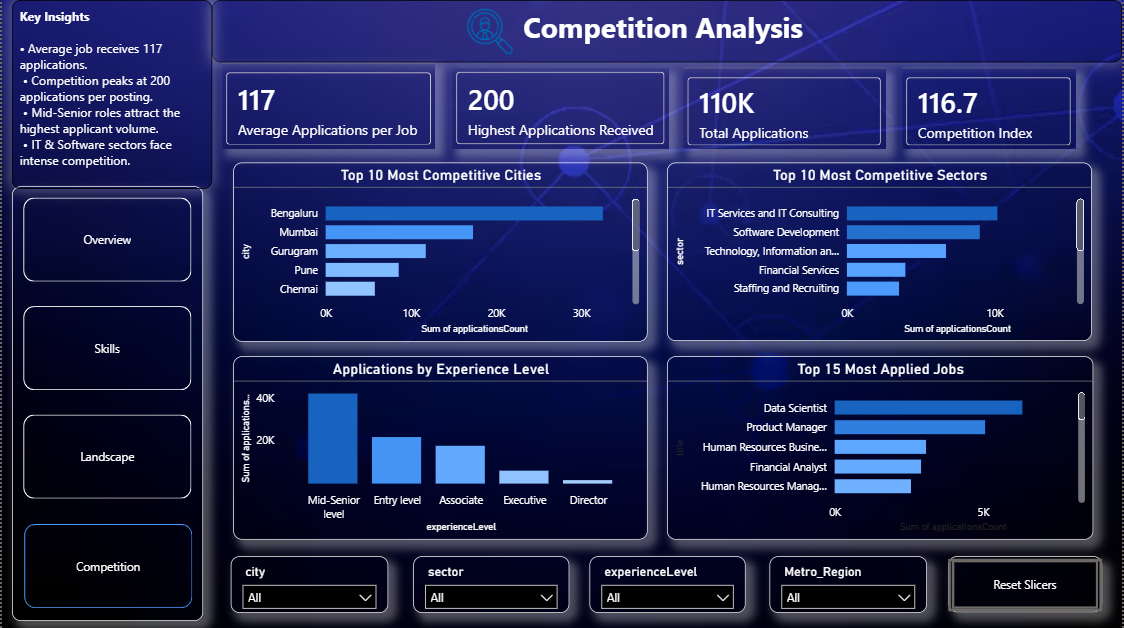

The page's visual inventory and layout, read from the dashboard file:
{"tool":"powerbi","page":{"name":"Competition","canvas":[1280,720],"ordinal":3},"visuals":[{"type":"cardVisual","fields":{"Data":["LinkedIn_Jobs_Final.Avg Applications"]},"box":[251.1,71.4,244.3,98.8],"z":0},{"type":"pageNavigator","box":[11.4,212.9,218.6,497.1],"z":1000},{"type":"textbox","box":[239.9,0,1040.1,71.4],"z":2000},{"type":"cardVisual","title":"Total Companies","fields":{"Data":["LinkedIn_Jobs_Final.Highest Applications Received"]},"box":[514.6,76.8,248.4,93.3],"z":3000},{"type":"cardVisual","fields":{"Data":["LinkedIn_Jobs_Final.Total Applications"]},"box":[778,76.8,231.9,93.3],"z":4000},{"type":"cardVisual","fields":{"Data":["LinkedIn_Jobs_Final.Competition Index"]},"box":[1029.2,76.8,199,93.3],"z":5000},{"type":"clusteredBarChart","title":"Top 10 Most Competitive Cities","fields":{"Category":["LinkedIn_Jobs_Final.city"],"Y":["Sum(LinkedIn_Jobs_Final.applicationsCount)"]},"box":[264.8,185.2,473.4,204.5],"z":6000},{"type":"clusteredBarChart","title":"Top 10 Most Competitive Sectors","fields":{"Category":["LinkedIn_Jobs_Final.sector"],"Y":["Sum(LinkedIn_Jobs_Final.applicationsCount)"]},"box":[760,185.7,485.7,204.3],"z":7000},{"type":"clusteredColumnChart","title":"Applications by Experience Level","fields":{"Y":["Sum(LinkedIn_Jobs_Final.applicationsCount)"],"Category":["LinkedIn_Jobs_Final.experienceLevel"]},"box":[264.8,407.5,473.4,209.9],"z":8000},{"type":"clusteredBarChart","title":"Top 15 Most Applied Jobs","fields":{"Category":["LinkedIn_Jobs_Final.title","LinkedIn_Jobs_Final.companyName"],"Y":["Sum(LinkedIn_Jobs_Final.applicationsCount)"]},"box":[760.2,407.5,487.1,209.9],"z":9000},{"type":"slicer","fields":{"Values":["LinkedIn_Jobs_Final.city"]},"box":[261,636,180,64.6],"z":10000},{"type":"slicer","fields":{"Values":["LinkedIn_Jobs_Final.sector"]},"box":[469.8,636,178.6,64.6],"z":11000},{"type":"slicer","fields":{"Values":["LinkedIn_Jobs_Final.experienceLevel"]},"box":[671.7,636,178.6,64.6],"z":12000},{"type":"slicer","fields":{"Values":["LinkedIn_Jobs_Final.Metro_Region"]},"box":[877.8,636,180,64.6],"z":13000},{"type":"actionButton","box":[1081.4,635.7,175.7,64.3],"z":14000},{"type":"textbox","box":[11.4,0,228.6,215.7],"z":15000},{"type":"image","box":[522.8,9.6,70,52.1],"z":16000},{"type":"actionButton","box":[1081.4,638.6,175.7,60],"z":17000}]}

Visuals, with their boxes in screenshot pixels (x1, y1, x2, y2), scaled from the page's 1280x720 canvas onto the 1124x628 screenshot:
cardVisual - LinkedIn_Jobs_Final.Avg Applications: box=[220, 62, 435, 148]
pageNavigator: box=[10, 186, 202, 619]
textbox: box=[211, 0, 1123, 62]
"Total Companies" cardVisual: box=[452, 67, 670, 148]
cardVisual - LinkedIn_Jobs_Final.Total Applications: box=[683, 67, 887, 148]
cardVisual - LinkedIn_Jobs_Final.Competition Index: box=[904, 67, 1079, 148]
"Top 10 Most Competitive Cities" clusteredBarChart: box=[233, 162, 648, 340]
"Top 10 Most Competitive Sectors" clusteredBarChart: box=[667, 162, 1094, 340]
"Applications by Experience Level" clusteredColumnChart: box=[233, 355, 648, 539]
"Top 15 Most Applied Jobs" clusteredBarChart: box=[668, 355, 1095, 539]
slicer - LinkedIn_Jobs_Final.city: box=[229, 555, 387, 611]
slicer - LinkedIn_Jobs_Final.sector: box=[413, 555, 569, 611]
slicer - LinkedIn_Jobs_Final.experienceLevel: box=[590, 555, 747, 611]
slicer - LinkedIn_Jobs_Final.Metro_Region: box=[771, 555, 929, 611]
actionButton: box=[950, 554, 1104, 611]
textbox: box=[10, 0, 211, 188]
image: box=[459, 8, 521, 54]
actionButton: box=[950, 557, 1104, 609]
